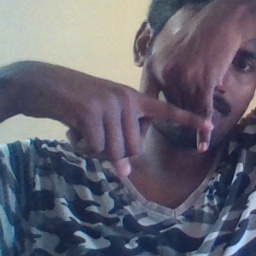H: (107, 54, 229, 161)
